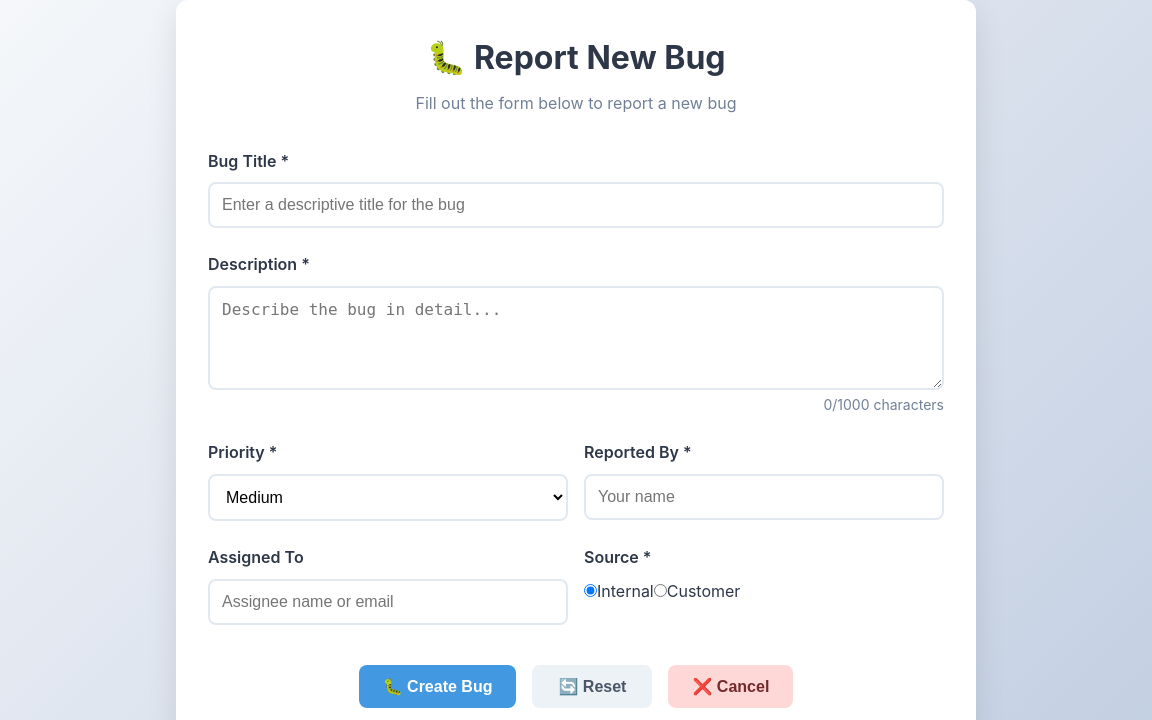
Test: BugForm Component › Form Validation › should show validation errors for empty required fields
# Try to submit empty form
Click the button "🐛 Create Bug" at x=438, y=686, box [359,664,516,708]
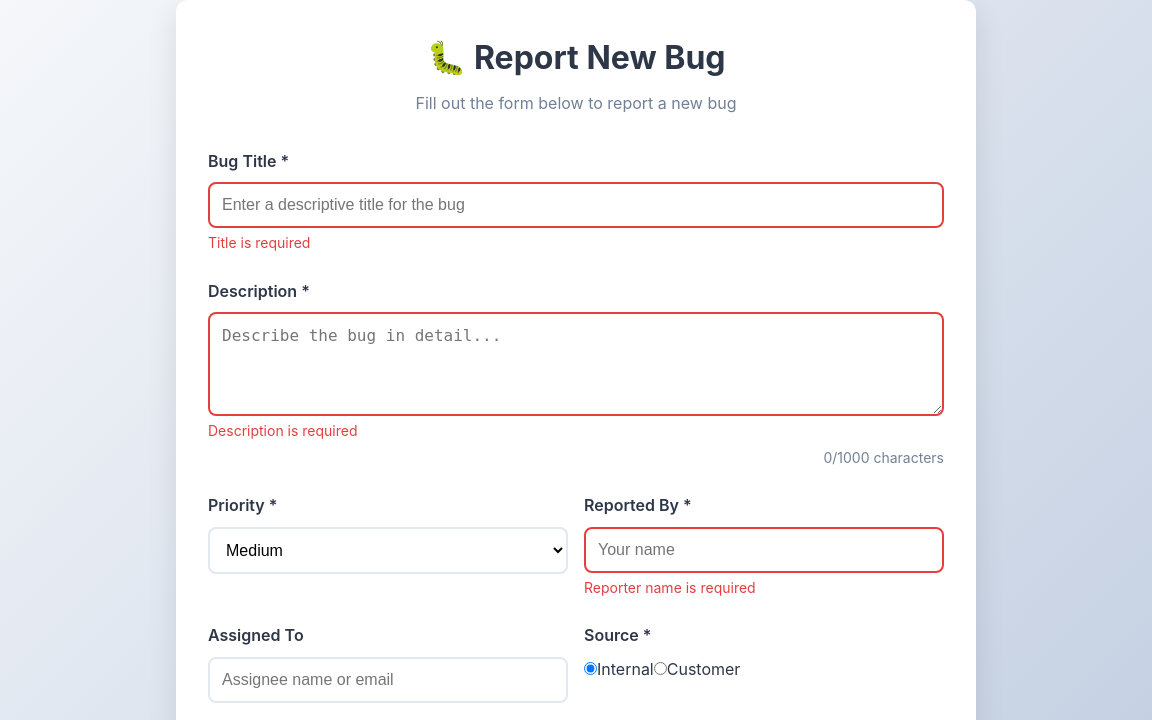
Expected: the text "Title is required" is shown, [208,234,310,251]
Expected: the text "Description is required" is shown, [208,422,358,439]
Expected: the text "Reporter name is required" is shown, [584,579,756,596]
